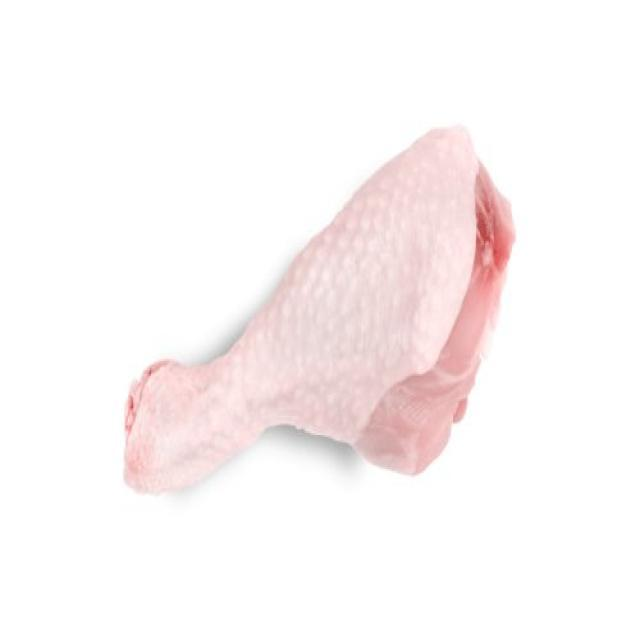leg: (117, 117, 511, 497)
